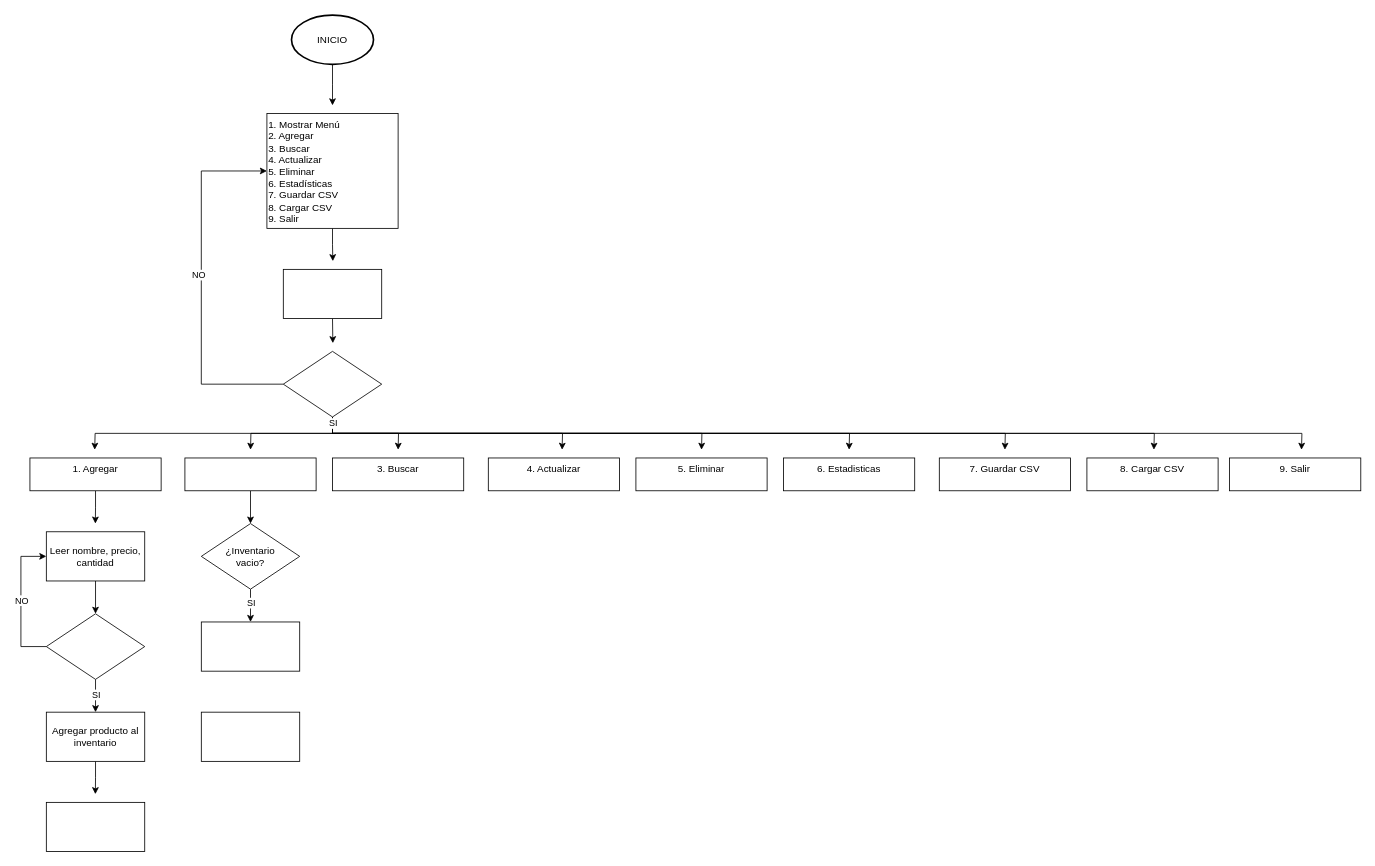
Image size: 1375x866. Some labels were removed from this diagram. The shapes that lost their labels are listed below. From the top down, each one's centre as x and y in pixels, then its label:
point (332, 294): Leer opción del usuario
point (332, 384): ¿Opcion seleccionada?
point (250, 474): 2. Mostrar inventario
point (95, 646): ¿Datos validos?
point (250, 646): Mostrar mensaje: Inventario vacio
point (95, 827): Mostrar mensaje: producto agregado
